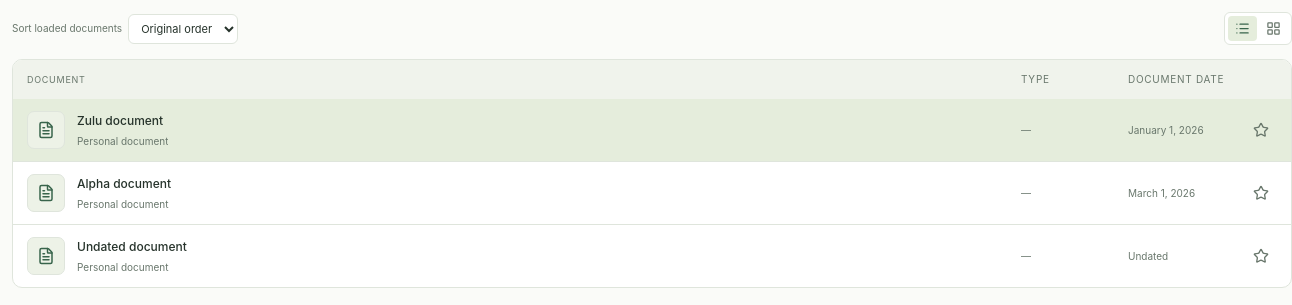
Test: document view controls › sorts loaded rows without mutating documents and puts undated records last
The width and height of the screenshot is (1292, 305).
Select "Title A–Z" in the dropdown labelled "Sort loaded documents" at x=183, y=28, box top-left (128, 14), bottom-right (238, 44)
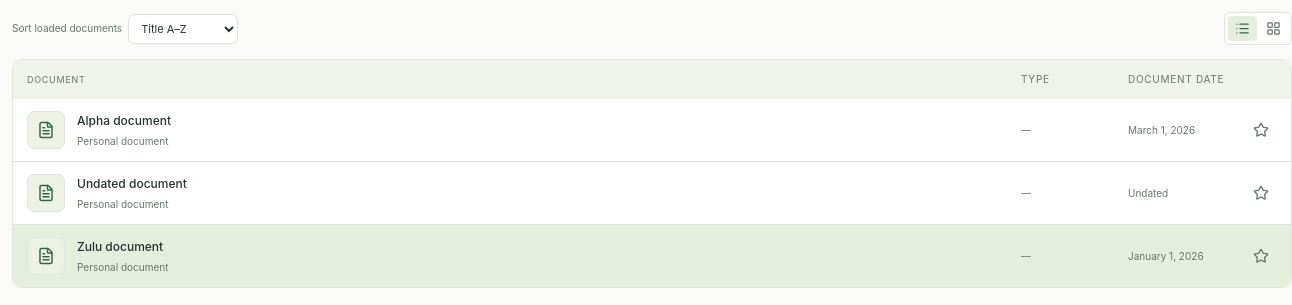
Expected: the elements with class "document-list-title" read "Alpha document", "Undated document", "Zulu document", in this order, top-left (77, 112), bottom-right (171, 130); top-left (77, 174), bottom-right (187, 192); top-left (77, 238), bottom-right (168, 256)
Select "Newest first" in the dropdown labelled "Sort loaded documents" at x=183, y=28, box top-left (128, 14), bottom-right (238, 44)
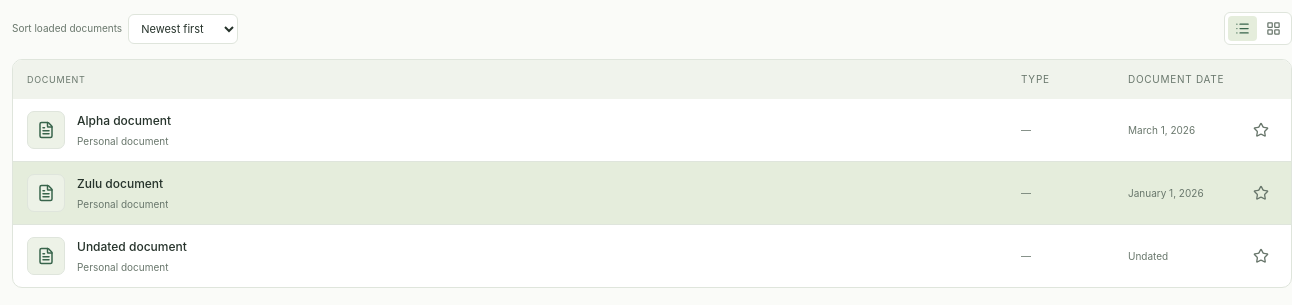
Expected: the elements with class "document-list-title" read "Alpha document", "Zulu document", "Undated document", in this order, top-left (77, 112), bottom-right (171, 130); top-left (77, 174), bottom-right (168, 192); top-left (77, 238), bottom-right (187, 256)
